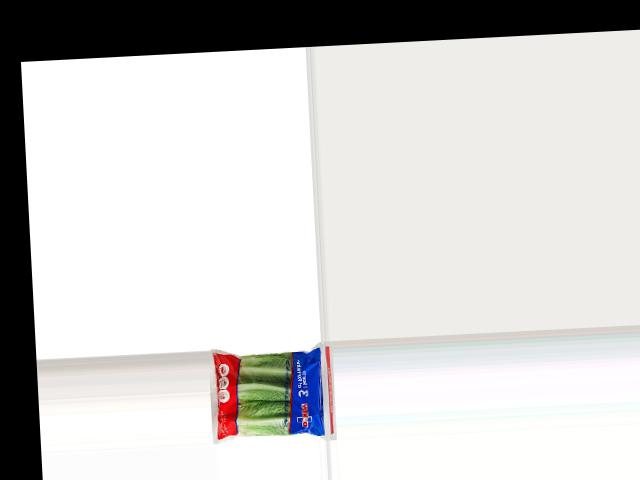lettuce: (208, 346, 330, 446)
